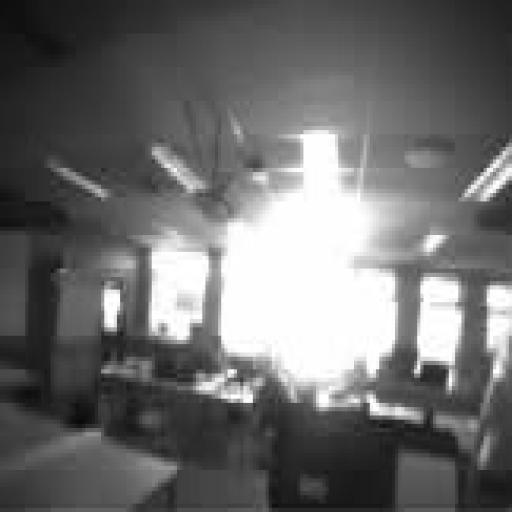human: (475, 332, 511, 507)
